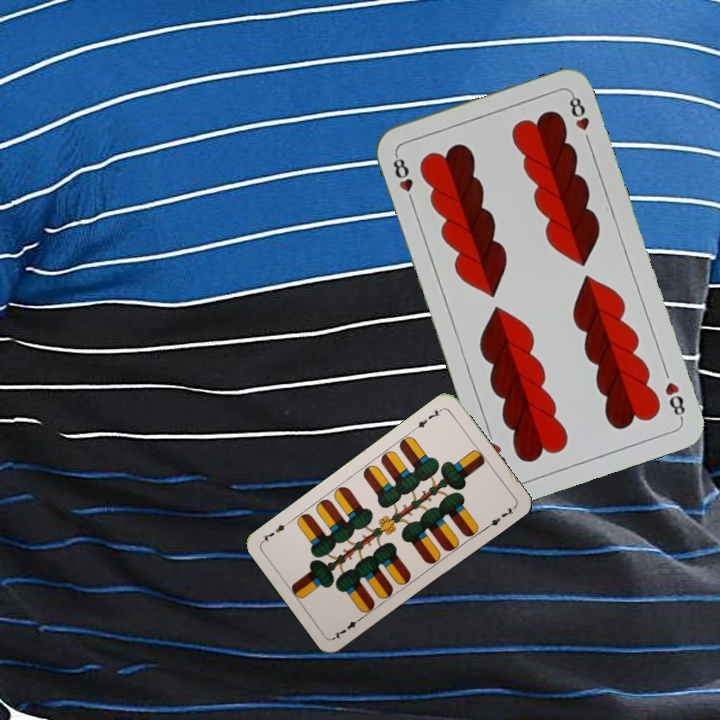E7: (330, 613, 365, 642), (410, 404, 446, 432)
H8: (389, 150, 417, 207), (661, 378, 688, 423)
